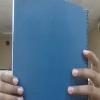notebook: (11, 0, 90, 99)
